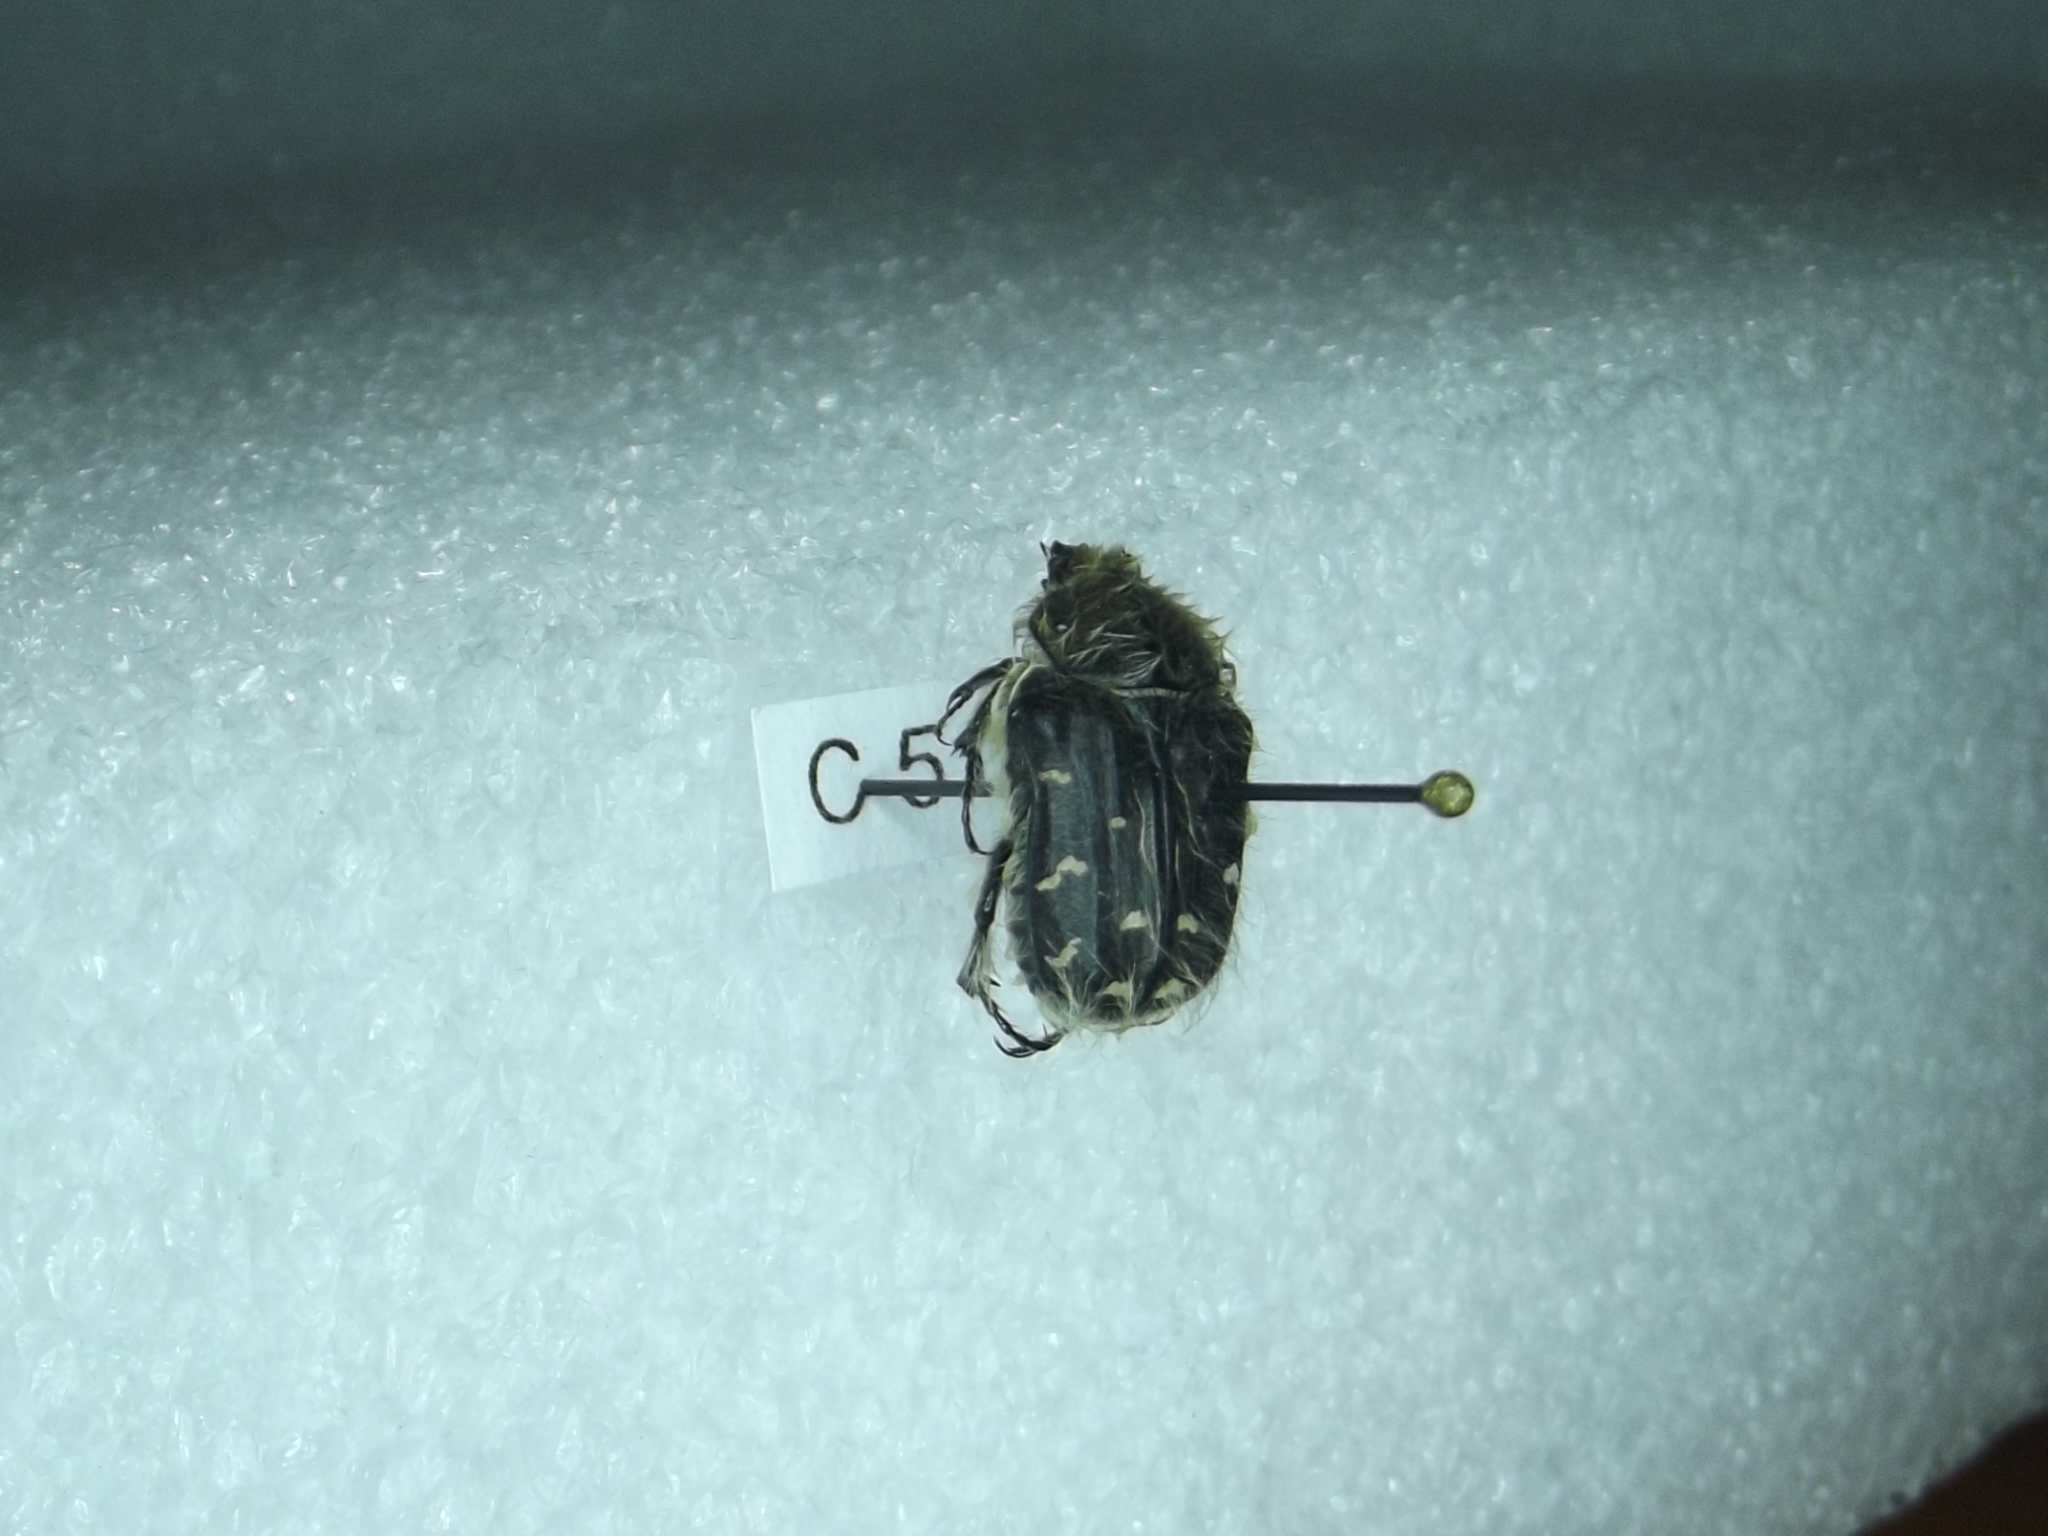Tropinota_senicula: (911, 508, 1268, 1063)
